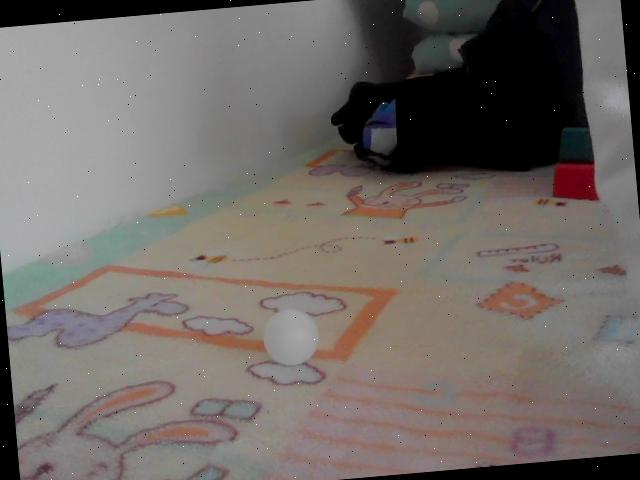ball: (262, 306, 320, 368)
